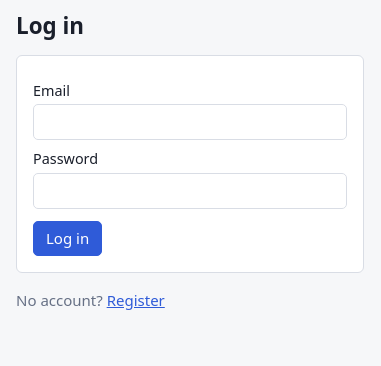
it: auth pages and guards › shows the server error on a failed login
The image size is (381, 366).
In the field labelled "Email": (190, 122) [33,104,347,140], type "a@example.com"
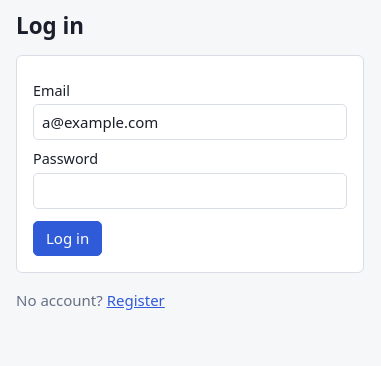
In the password field labelled "Password": (190, 191) [33,173,347,209], type "wrong-password"
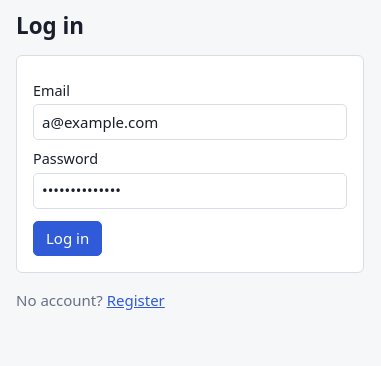
Click the button "Log in": (68, 238) [33,221,102,256]
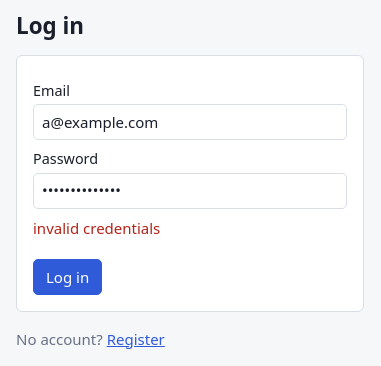
Expected: the message reads "invalid credentials", [33,218,160,238]
